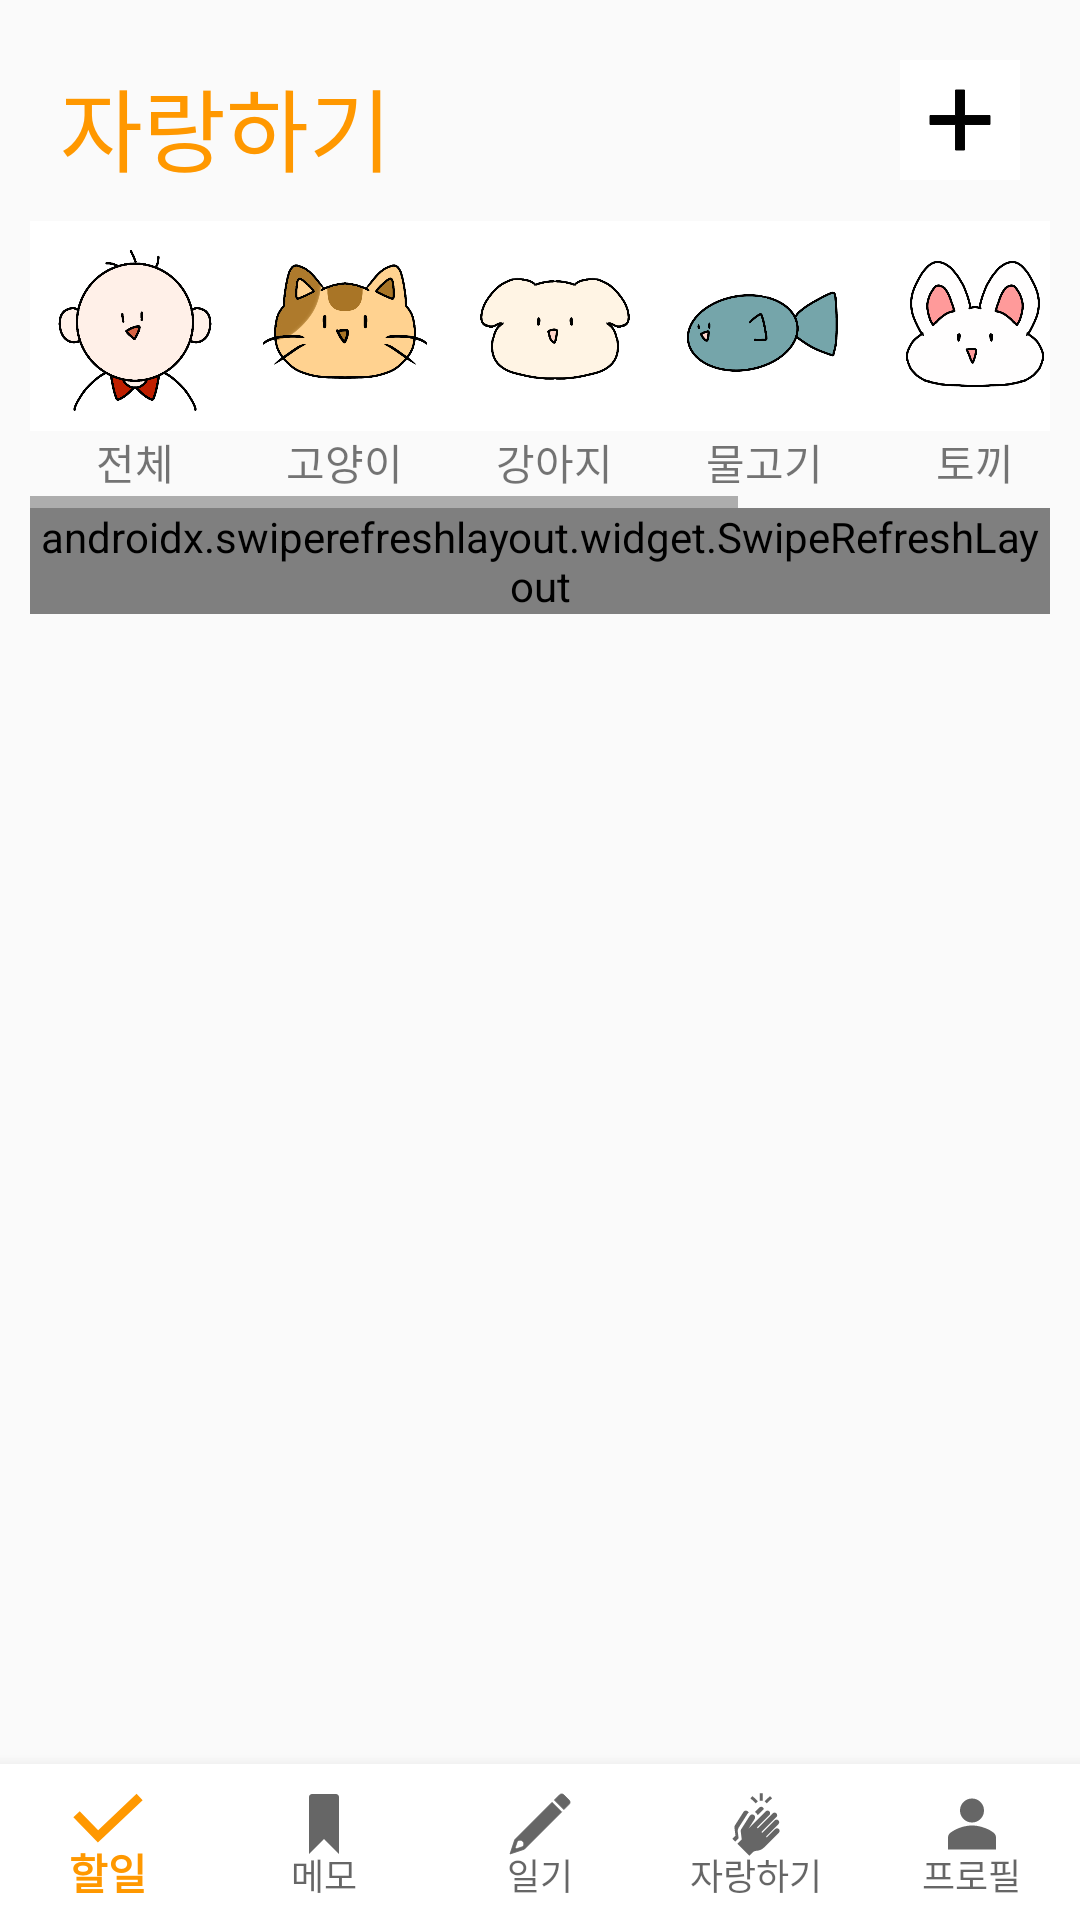

Icon click points for this 1080×1920 phone screenshot, format (x,y):
plus: (960,120)
